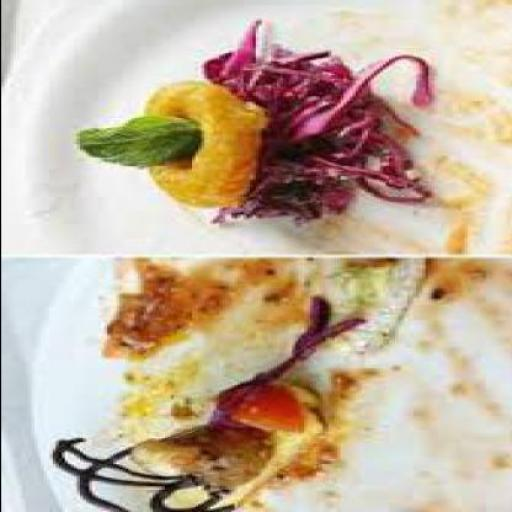biodegradable: (197, 22, 431, 228), (43, 383, 331, 511), (206, 300, 358, 410), (136, 84, 260, 210), (100, 260, 218, 362), (309, 260, 421, 358), (70, 118, 198, 168), (206, 386, 315, 440), (449, 96, 509, 145), (127, 440, 194, 476), (457, 44, 509, 88), (421, 269, 482, 303), (427, 161, 476, 195), (418, 188, 476, 213), (437, 223, 466, 257), (455, 2, 509, 19)
